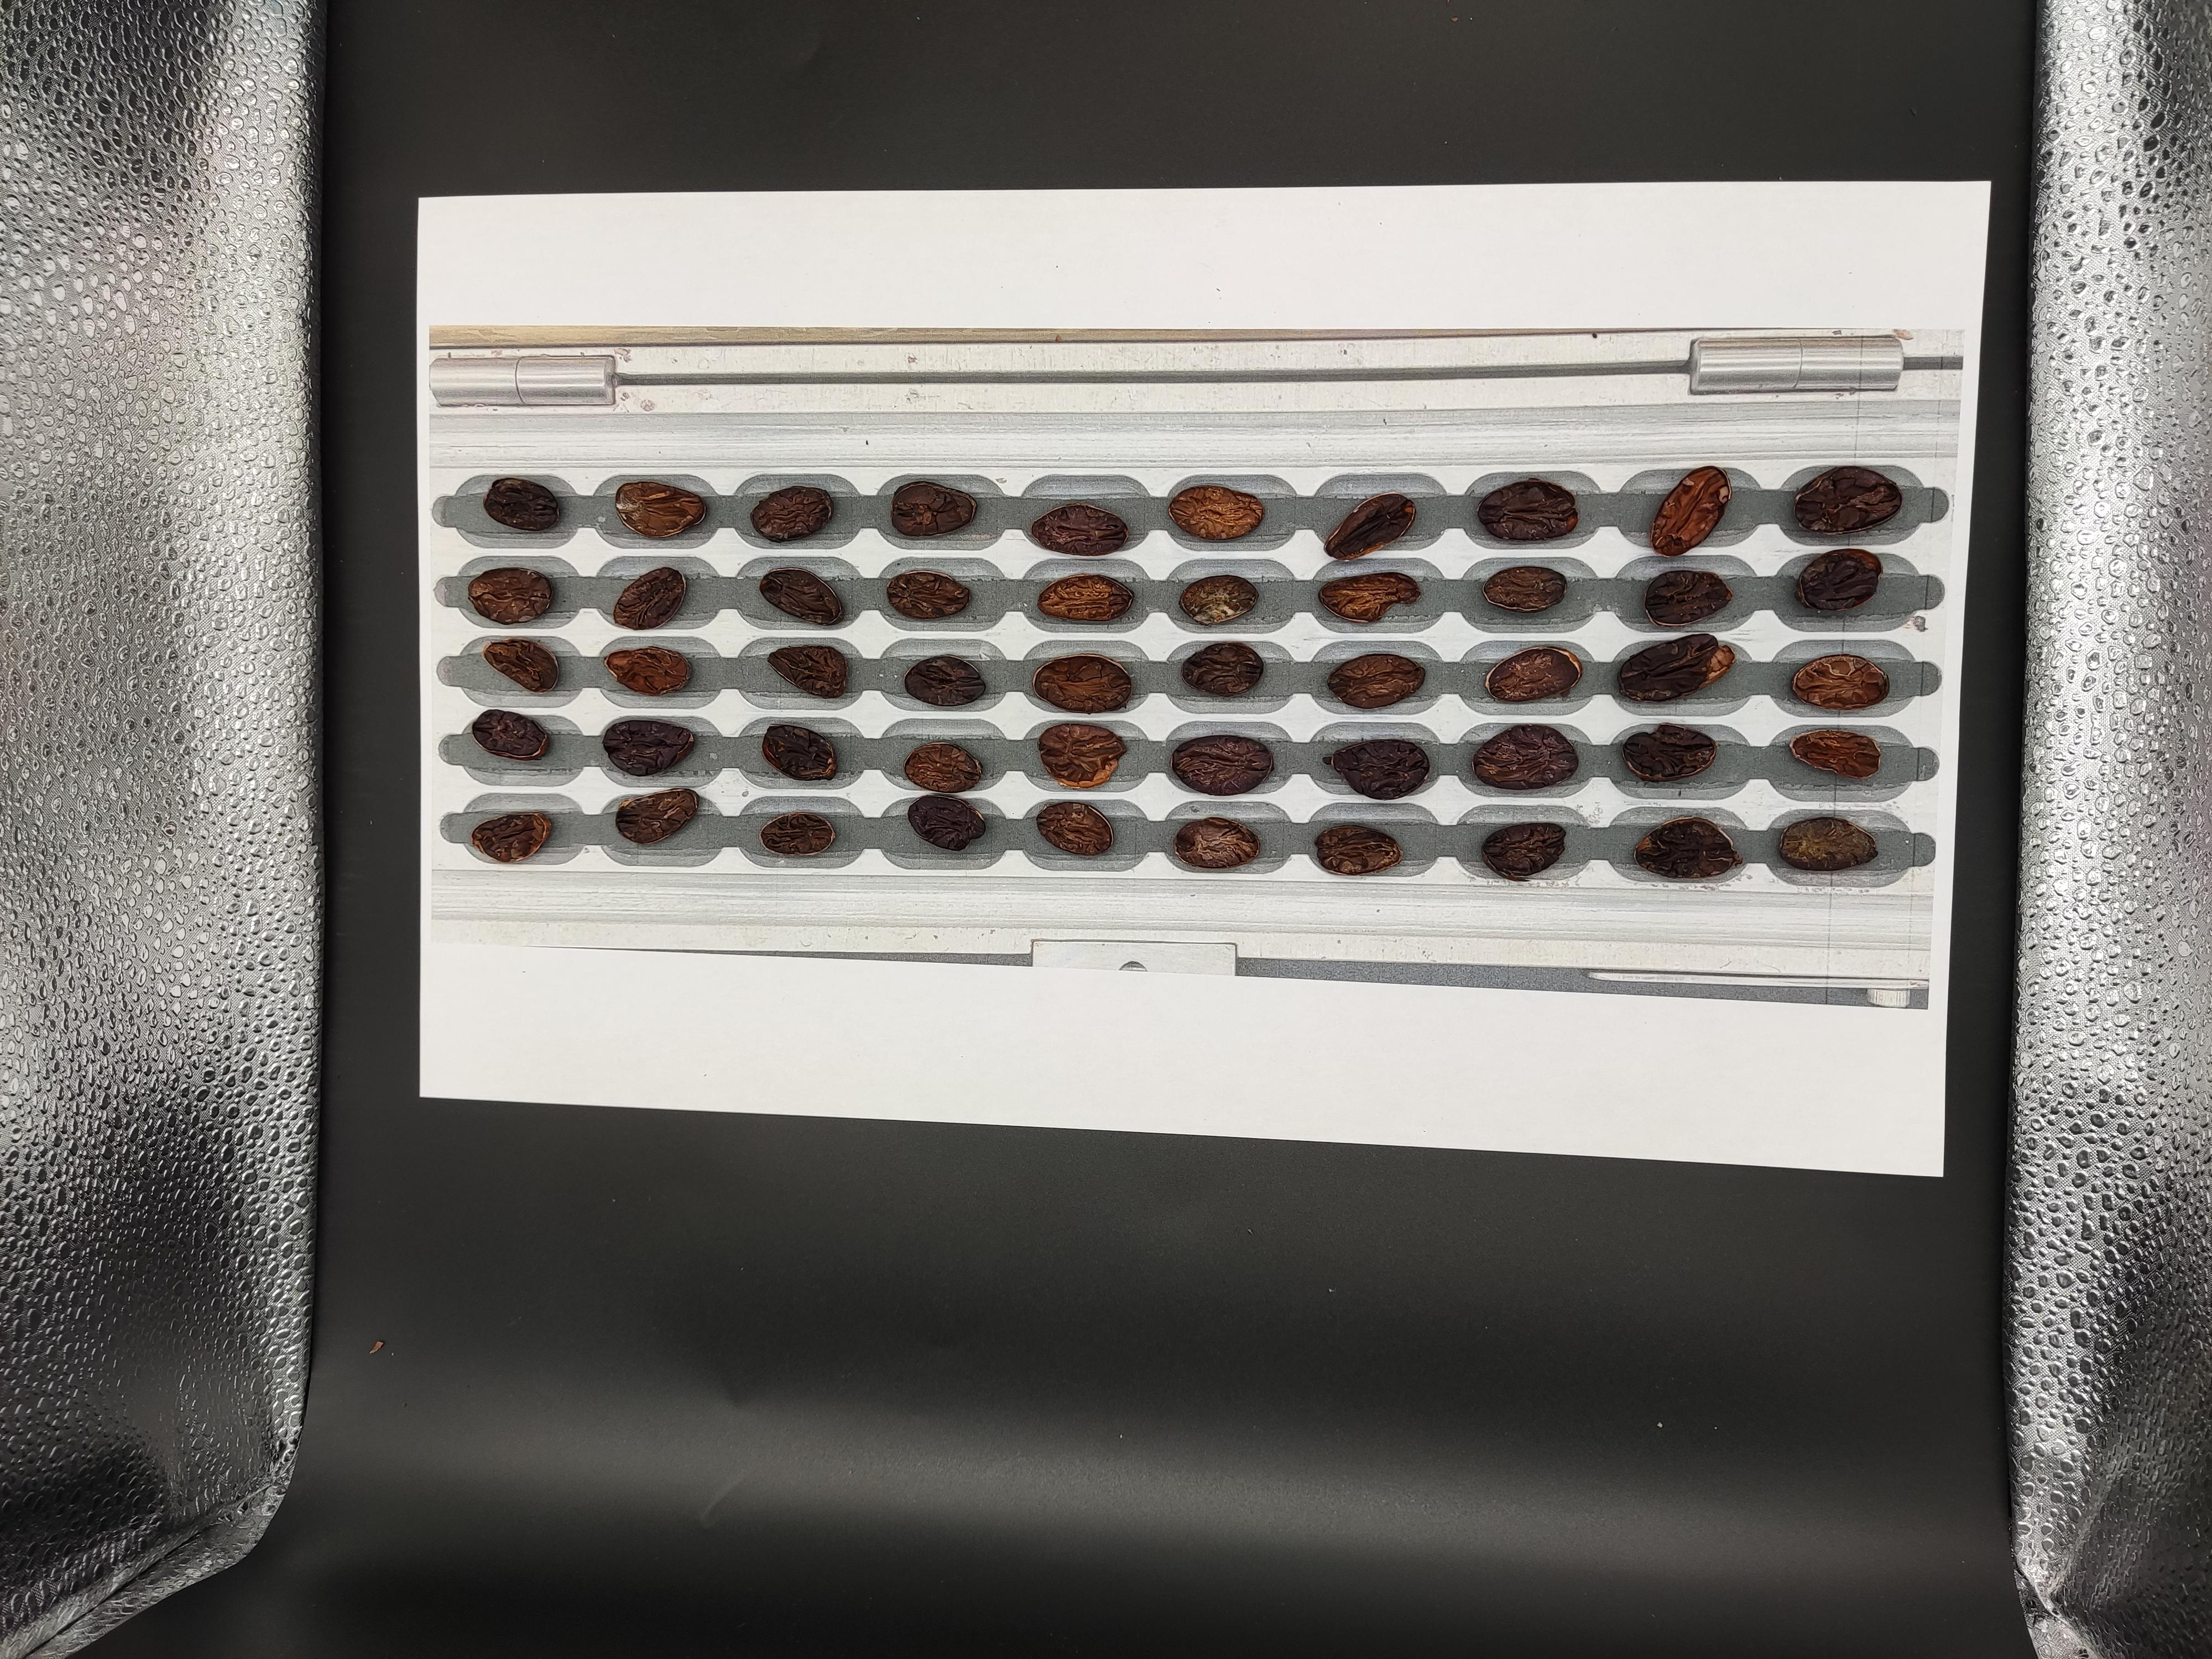Brown - G1: (1921, 1047, 1970, 1100), (1609, 1176, 1660, 1218), (1531, 1100, 1583, 1131), (1750, 1230, 1801, 1262), (1994, 1182, 2047, 1211)
Brown - G2: (1752, 1100, 1810, 1133), (1996, 1143, 2050, 1176), (1470, 1138, 1517, 1173), (1608, 1103, 1665, 1131), (1608, 1218, 1655, 1251), (1386, 1140, 1437, 1169), (1320, 1223, 1364, 1256)
Brown - G3: (1676, 1056, 1730, 1091), (1754, 1143, 1813, 1175), (1318, 1098, 1369, 1134), (1606, 1143, 1662, 1176), (1677, 1227, 1730, 1262), (1392, 1213, 1440, 1248), (1390, 1100, 1435, 1136), (1324, 1136, 1372, 1169), (1461, 1056, 1508, 1089), (1540, 1188, 1587, 1218)
Brown - G4: (1836, 1098, 1885, 1126)
Insect-damaged: (1989, 1227, 2045, 1262)
Mouldy: (1392, 1054, 1447, 1089), (1683, 1101, 1730, 1133)
Partly Purple - G1: (1905, 1178, 1963, 1213), (1919, 1100, 1968, 1134)
Partly Purple - G2: (1831, 1178, 1892, 1218), (1834, 1053, 1892, 1089)
Partly Purple - G3: (1606, 1066, 1662, 1100)
Partly Purple - G4: (1839, 1138, 1893, 1173)
Total Purple - G3: (1756, 1185, 1815, 1223), (1677, 1185, 1735, 1222), (1540, 1218, 1588, 1251), (1320, 1171, 1364, 1206)
Very Dark Brown - G1: (1905, 1134, 1972, 1176), (1914, 1227, 1973, 1265), (1994, 1089, 2048, 1127), (1465, 1223, 1510, 1251)
Very Dark Brown - G2: (1994, 1046, 2057, 1087), (1756, 1060, 1808, 1100), (1836, 1227, 1886, 1265), (1386, 1176, 1440, 1211), (1465, 1178, 1512, 1215), (1683, 1136, 1731, 1171), (1325, 1051, 1369, 1089)
Very Dark Brown - G3: (1533, 1053, 1587, 1089), (1467, 1098, 1515, 1133), (1538, 1143, 1588, 1176)
